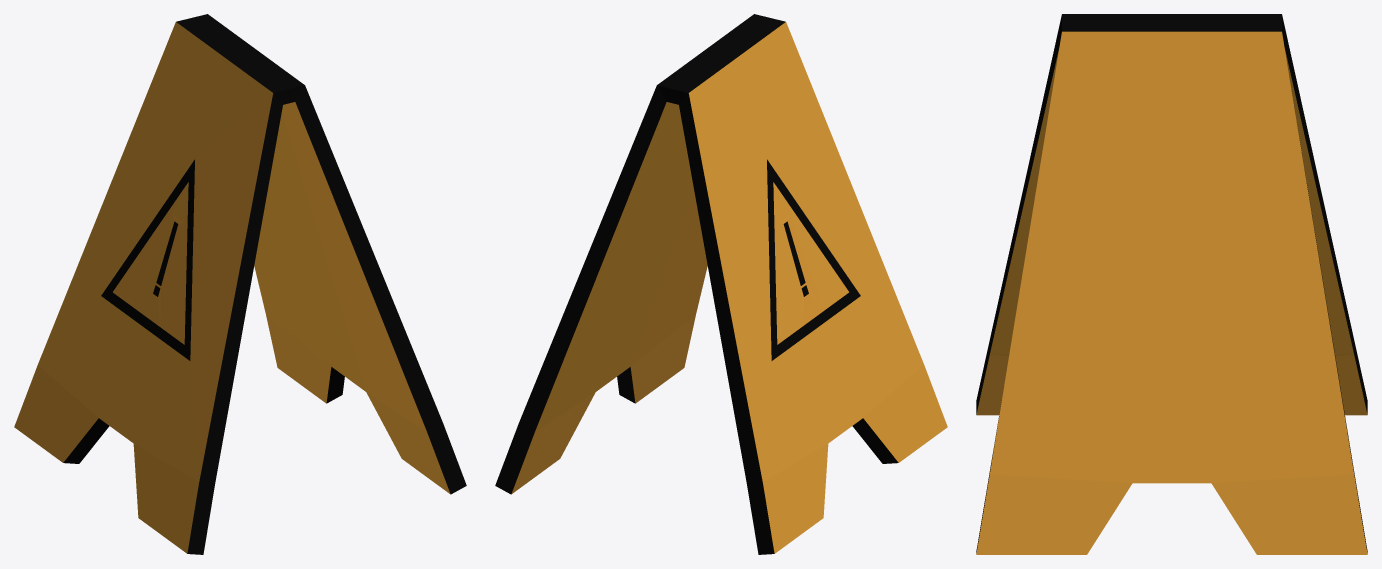
File: warning.fbx
The picture shows the model from 3 angles, left to right: view 1: azimuth 30°, elevation 25°; view 2: azimuth 150°, elevation 25°; view 3: azimuth 270°, elevation 25°; orthographic projection. The views are drawn at different scales.
Parts seen in each view (by area): view 1: warning; view 2: warning; view 3: warning.
Boxes of the visible parts, box(x1,y1,x2,y2) form: warning: box(14, 14, 466, 554); warning: box(495, 14, 947, 554); warning: box(976, 14, 1367, 554).
Bounding box in the file's own units: 2 × 2.15 × 2.79.
